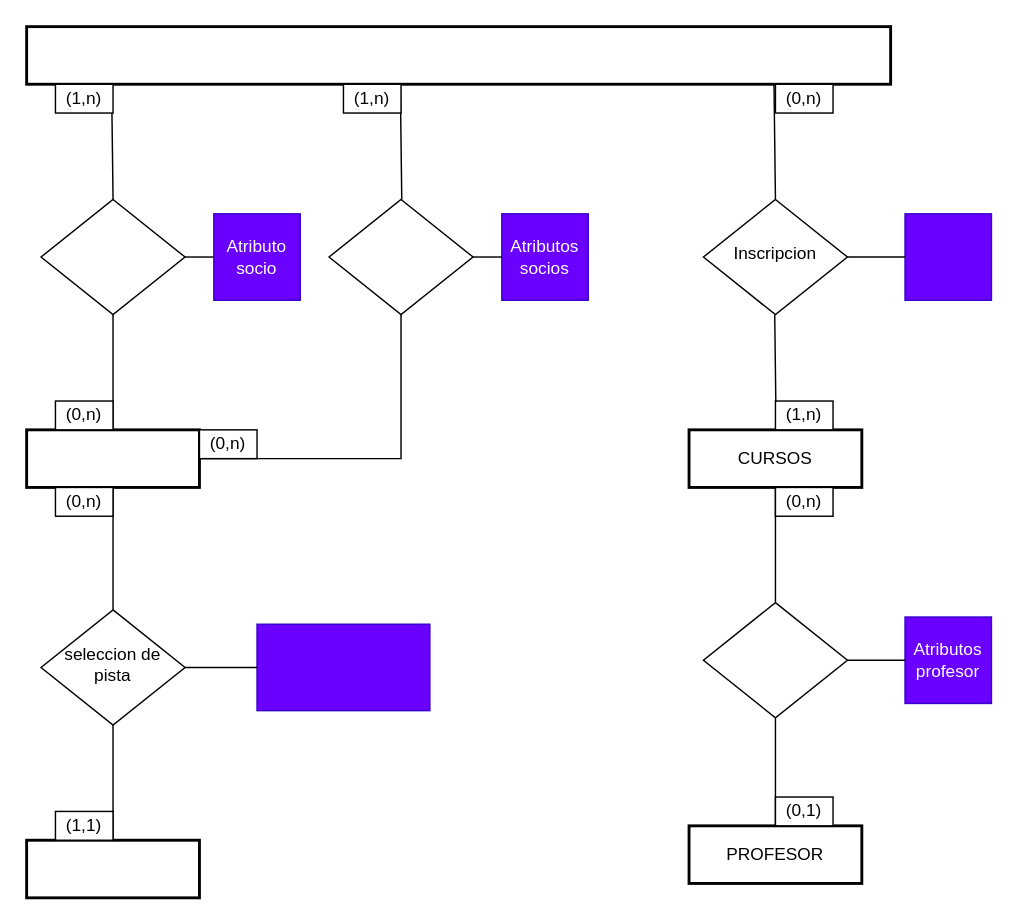
This 1017x923 diagram has some shape labels left out. Each missing label, with the box of its shape:
Atributos Inscripcion: (904, 212, 991, 300)
Atributos pista: (256, 623, 430, 711)
hacer reserva: (40, 198, 185, 315)
PISTA: (24, 838, 200, 899)
RESERVAS: (24, 428, 200, 488)
seleccion de Profesor: (702, 601, 847, 718)
SOCIOS: (24, 24, 891, 85)
socios que juegan: (328, 198, 473, 315)
